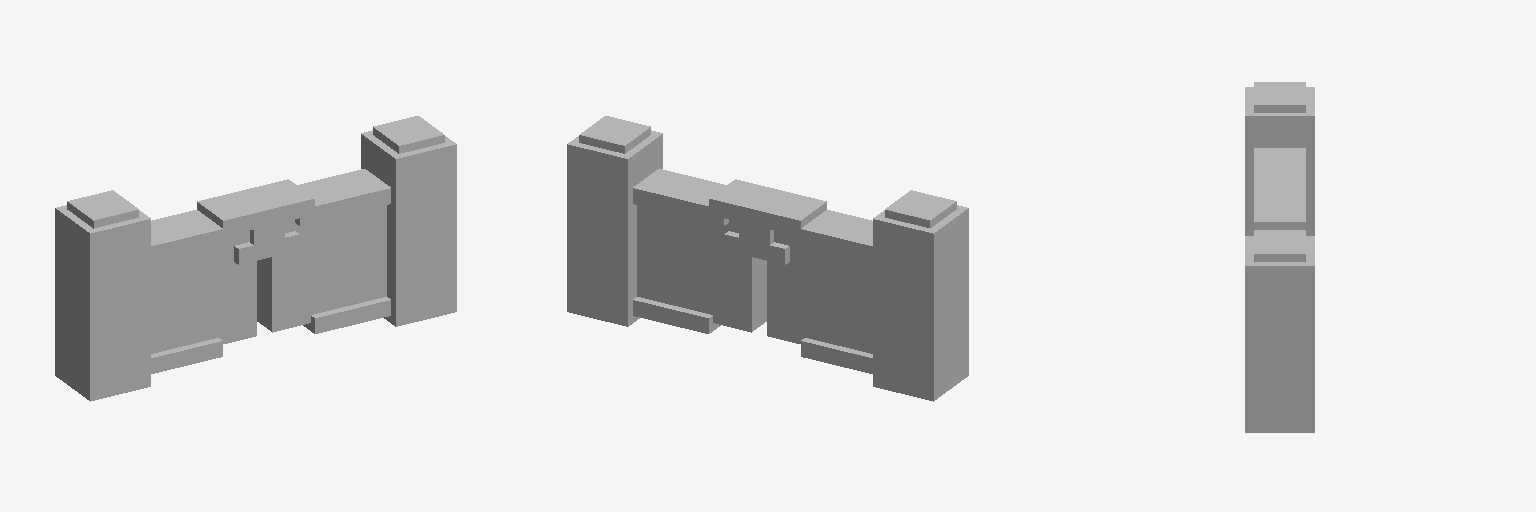
File: Stone Fence Gate.obj
The picture shows the model from 3 angles: view 1: azimuth 30°, elevation 25°; view 2: azimuth 150°, elevation 25°; view 3: azimuth 270°, elevation 25°; orthographic projection.
Visible parts, largest first — view 1: object 1; view 2: object 1; view 3: object 1.
Part boxes in pixels (left/top/right/bottom): object 1: left=55, top=116, right=456, bottom=401; object 1: left=567, top=116, right=968, bottom=401; object 1: left=1245, top=82, right=1314, bottom=432.
Bounding box in the file's own units: 4.8 × 2.2 × 0.8.